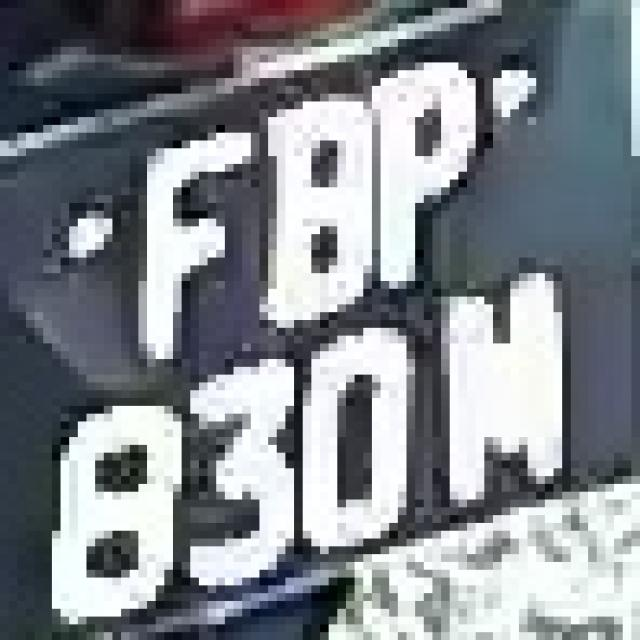0: (294, 296, 441, 530)
3: (164, 352, 294, 586)
8: (43, 390, 208, 624)
B: (234, 78, 389, 328)
F: (130, 101, 242, 359)
M: (441, 258, 588, 515)
P: (363, 54, 502, 258)
